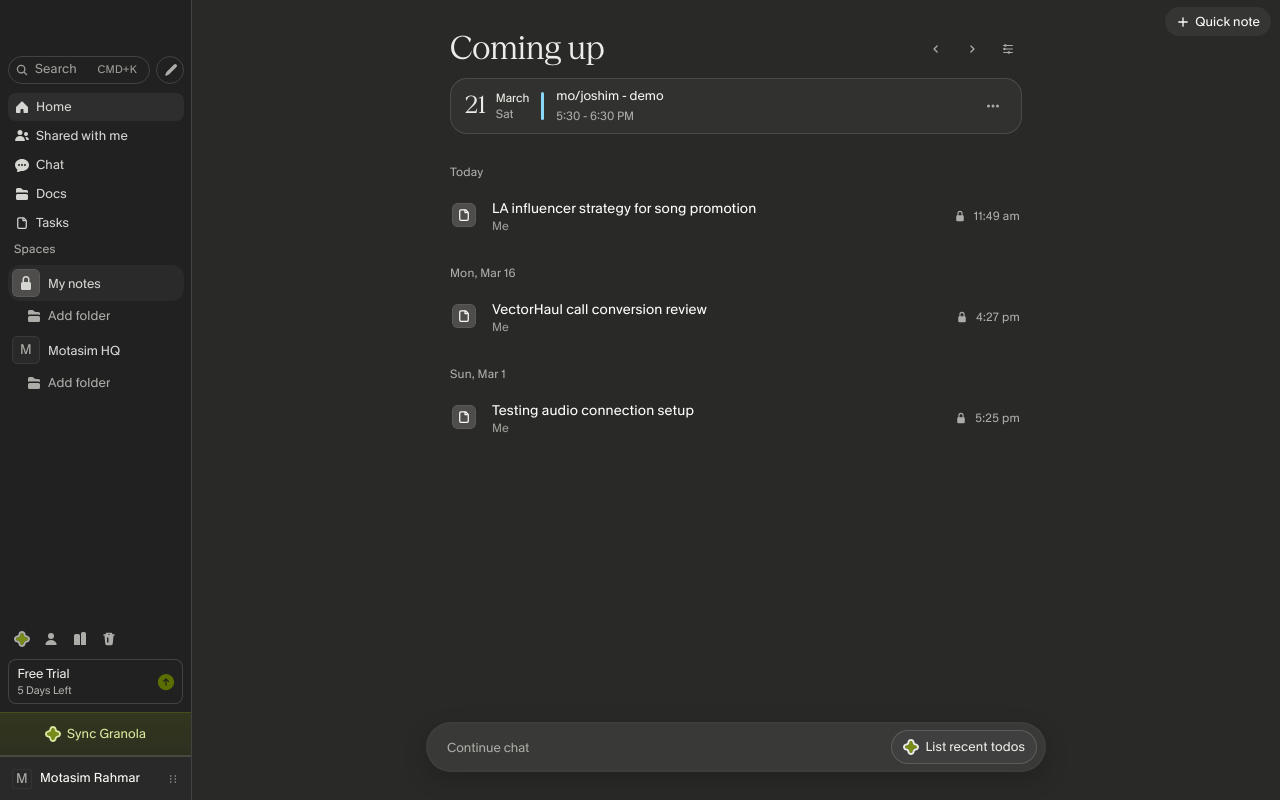
Test case: App task copilot › renders the Granola chat landing with real recipes and recents
Click the button "Chat": (96, 165) [8,151,184,179]
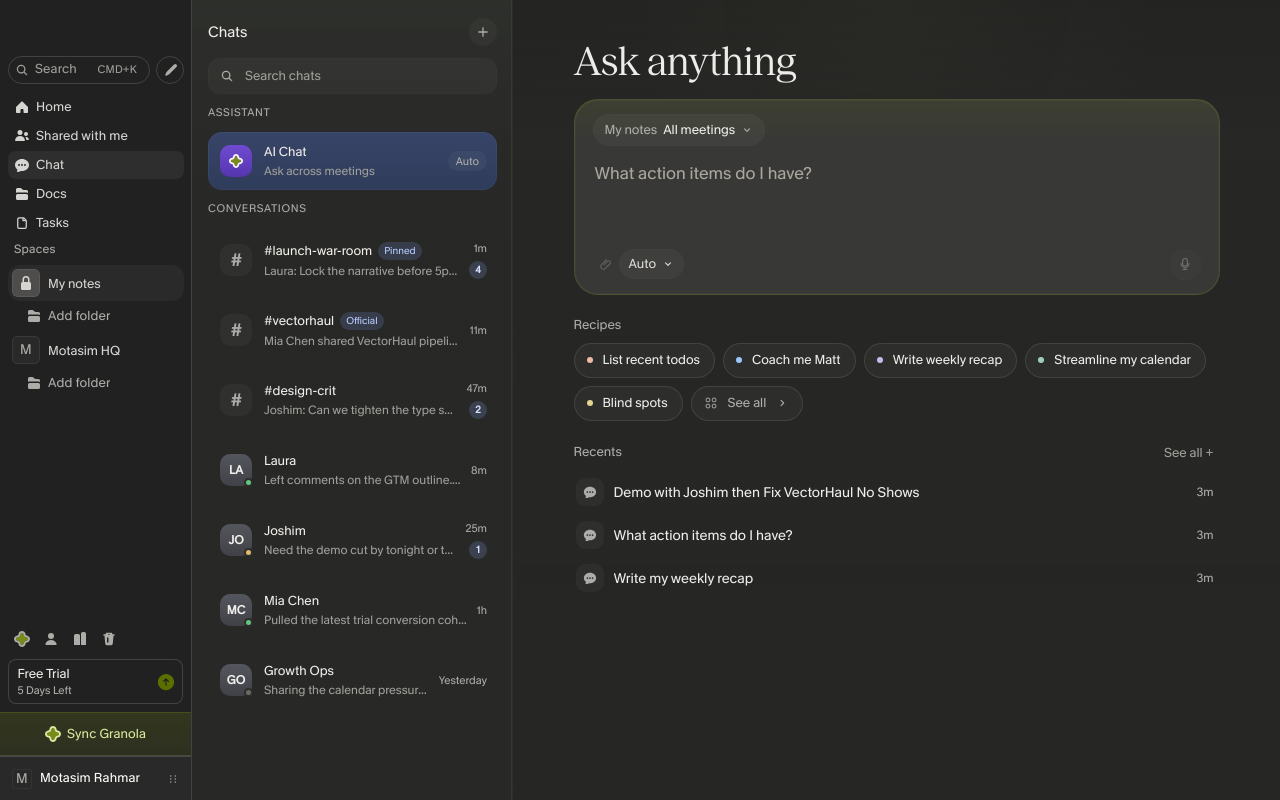
Expected: the heading "Ask anything" is shown, [574,37,796,85]
Expected: the text "AI Chat" is shown, [264,142,307,160]
Expected: the button "#launch-war-room" is shown, [208,228,497,292]
